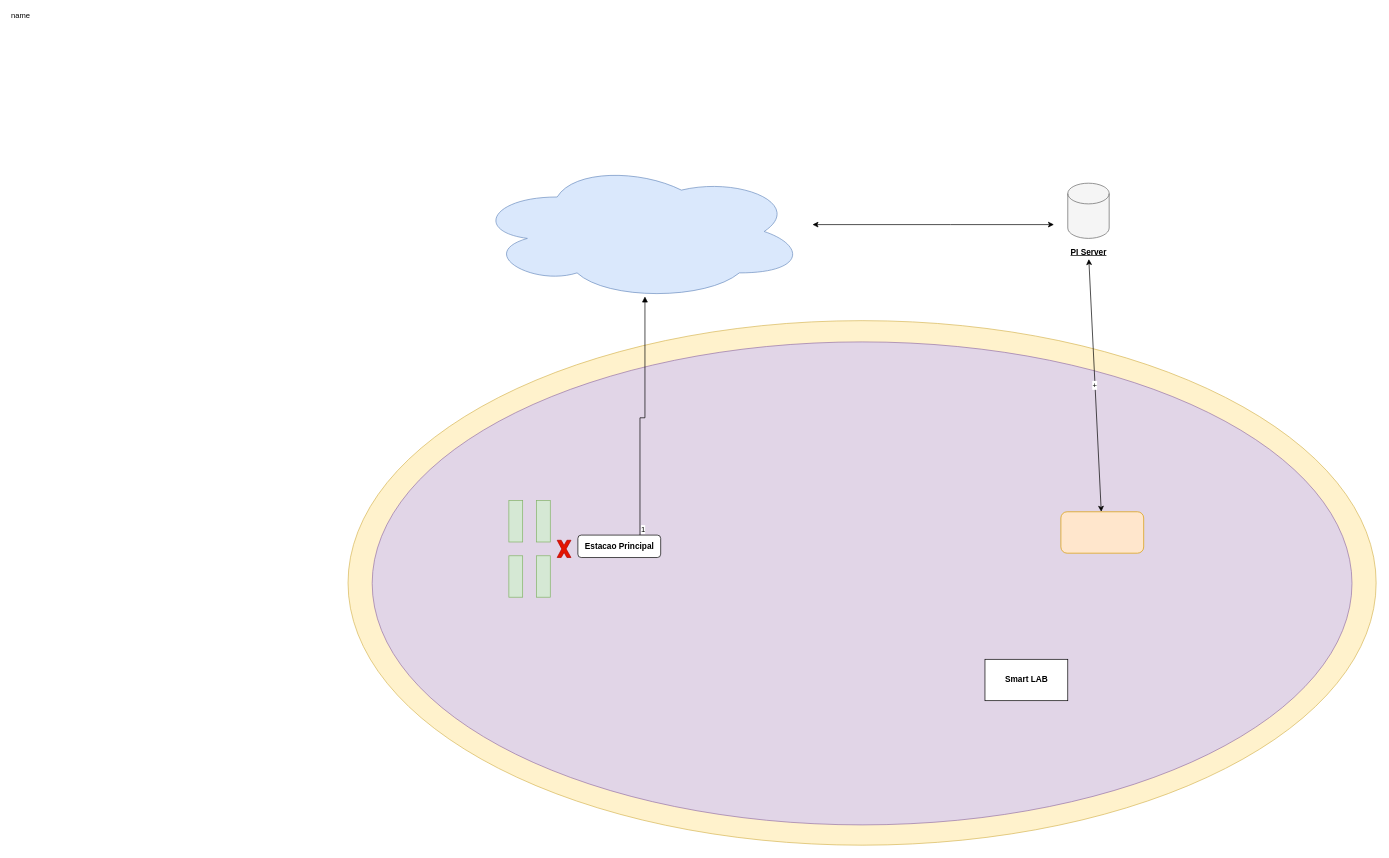
Image size: 1389x858. Some labels were removed from this diagram. Each missing label, with the centre of its shape:
Dashboard: pixel 1102 532
LoraWAN: pixel 640 231
